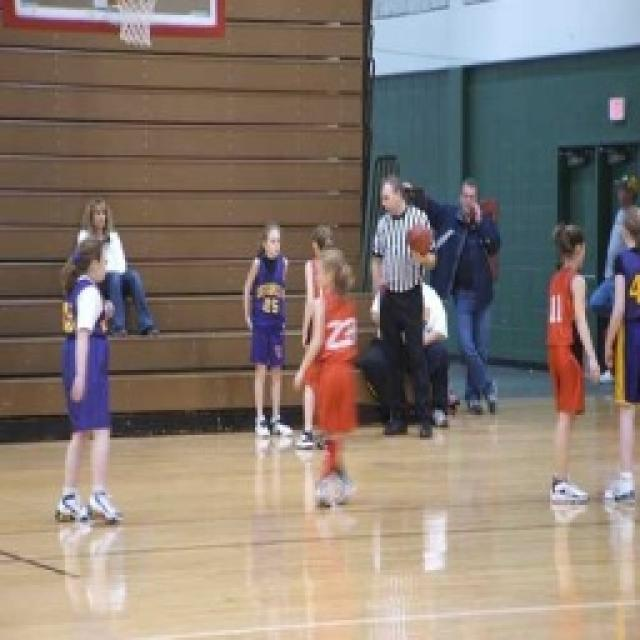rim: (406, 225, 434, 252)
